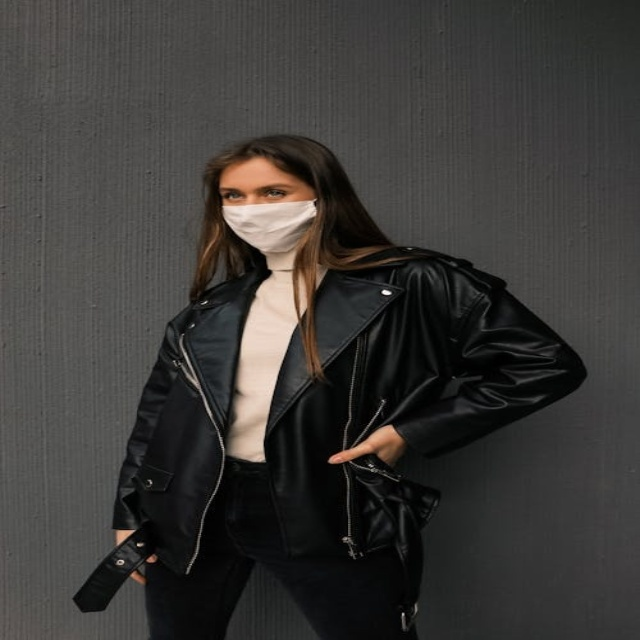Mascara: (219, 198, 321, 253)
Sin_gafas: (214, 177, 300, 202)
Sin_guantes: (323, 414, 411, 478)
